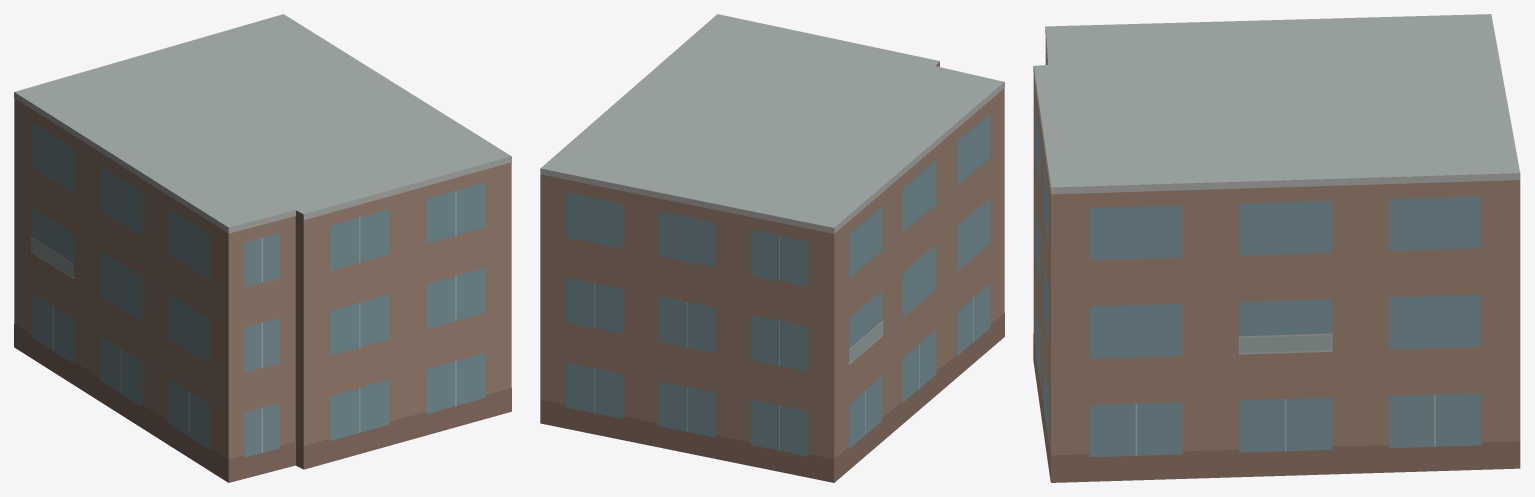
The model's file is survey-upis-32747349.glb.
The picture shows the model from 3 angles, left to right: view 1: azimuth 30°, elevation 25°; view 2: azimuth 150°, elevation 25°; view 3: azimuth 270°, elevation 25°; orthographic projection. The views are drawn at different scales.
Visible parts, largest first — view 1: survey-upis-32747349.tmp; view 2: survey-upis-32747349.tmp; view 3: survey-upis-32747349.tmp.
Part boxes in pixels (<box>): survey-upis-32747349.tmp: <box>14,14,511,482</box>; survey-upis-32747349.tmp: <box>540,14,1004,482</box>; survey-upis-32747349.tmp: <box>1033,14,1520,482</box>.
Size of the model in its own units: 13.24 by 10.5 by 15.69.
